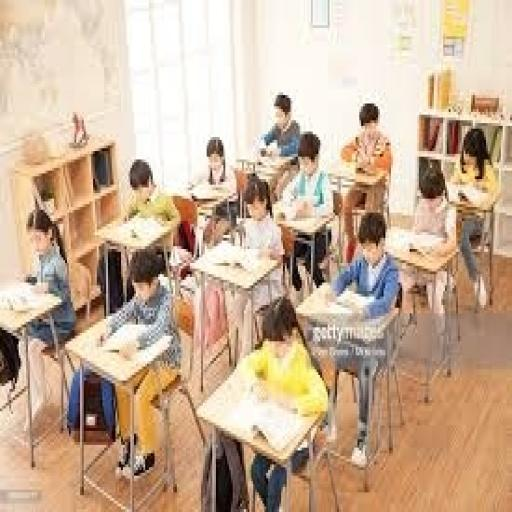sitting: (9, 87, 501, 498), (65, 244, 183, 478), (15, 204, 76, 431), (447, 123, 499, 311), (276, 129, 335, 291), (339, 98, 393, 263), (402, 162, 458, 319)
